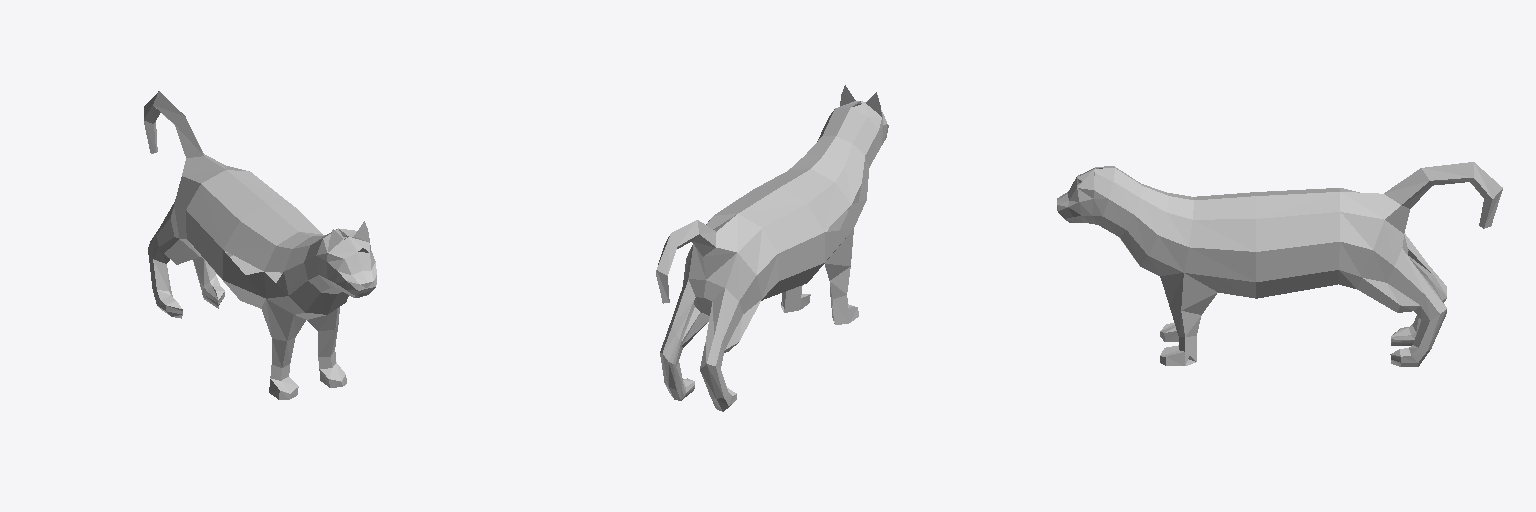
File: cat.obj
3 views of the same model, side by side, from view 1: azimuth 30°, elevation 25°; view 2: azimuth 150°, elevation 25°; view 3: azimuth 270°, elevation 25° (orthographic).
Bounding box in the file's own units: 213 × 453 × 919.